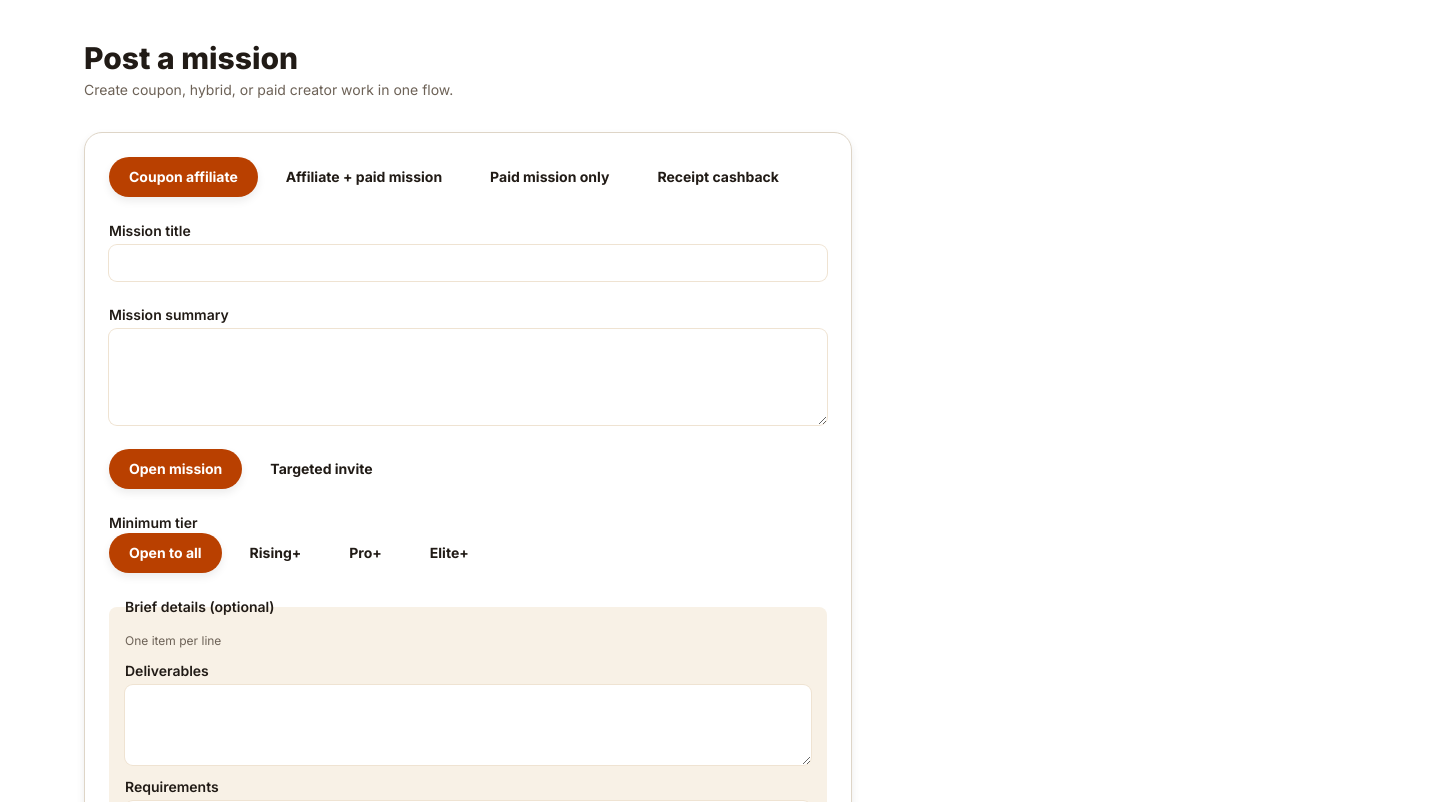
it: MissionPostWizard › shows a success panel after a successful create
Type "Test mission" into the field labelled "Mission title" at (468, 263), box x1=109 y1=245 x2=827 y2=281
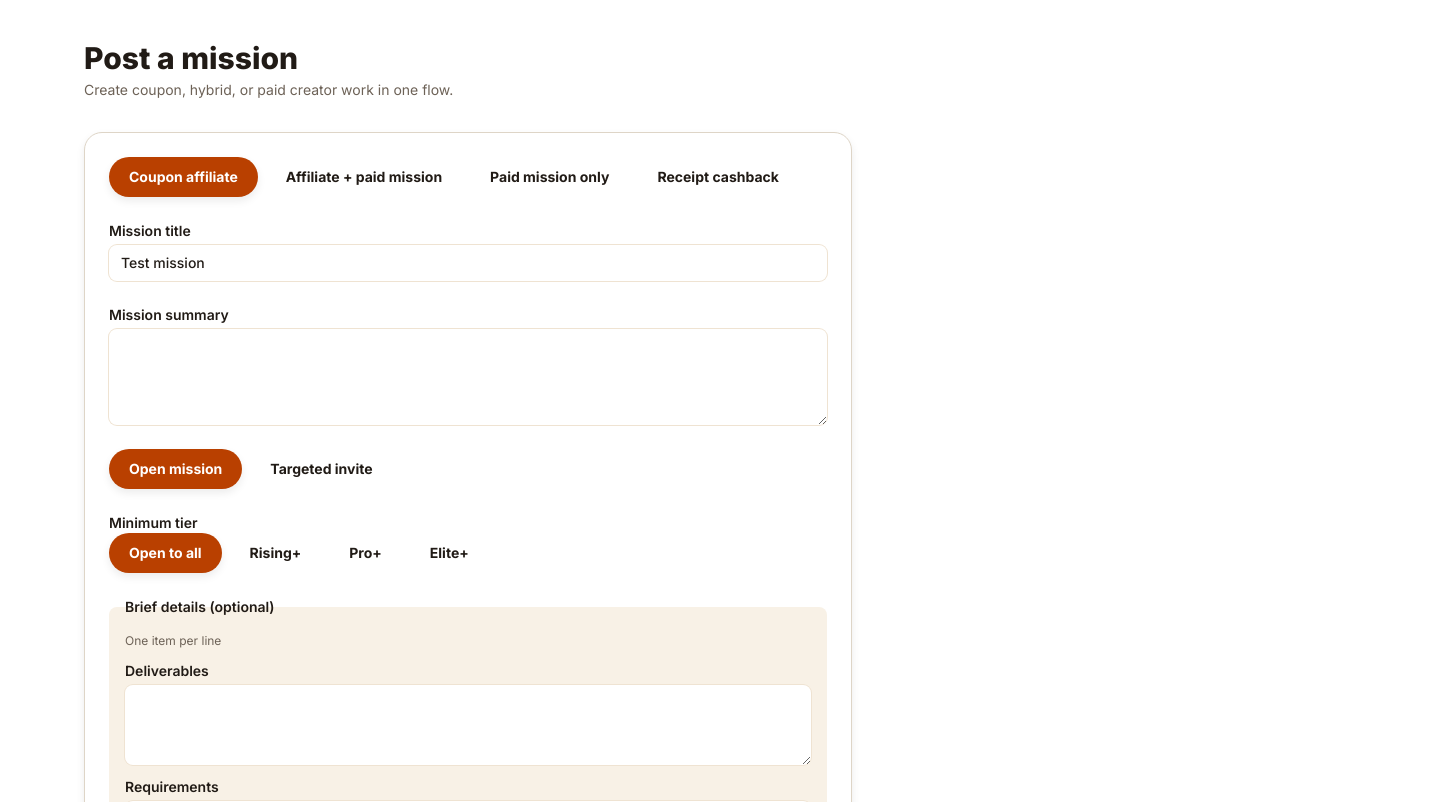
Type "Mission summary" into the text box labelled "Mission summary" at (468, 377), box x1=109 y1=329 x2=827 y2=425
(page scrolled)
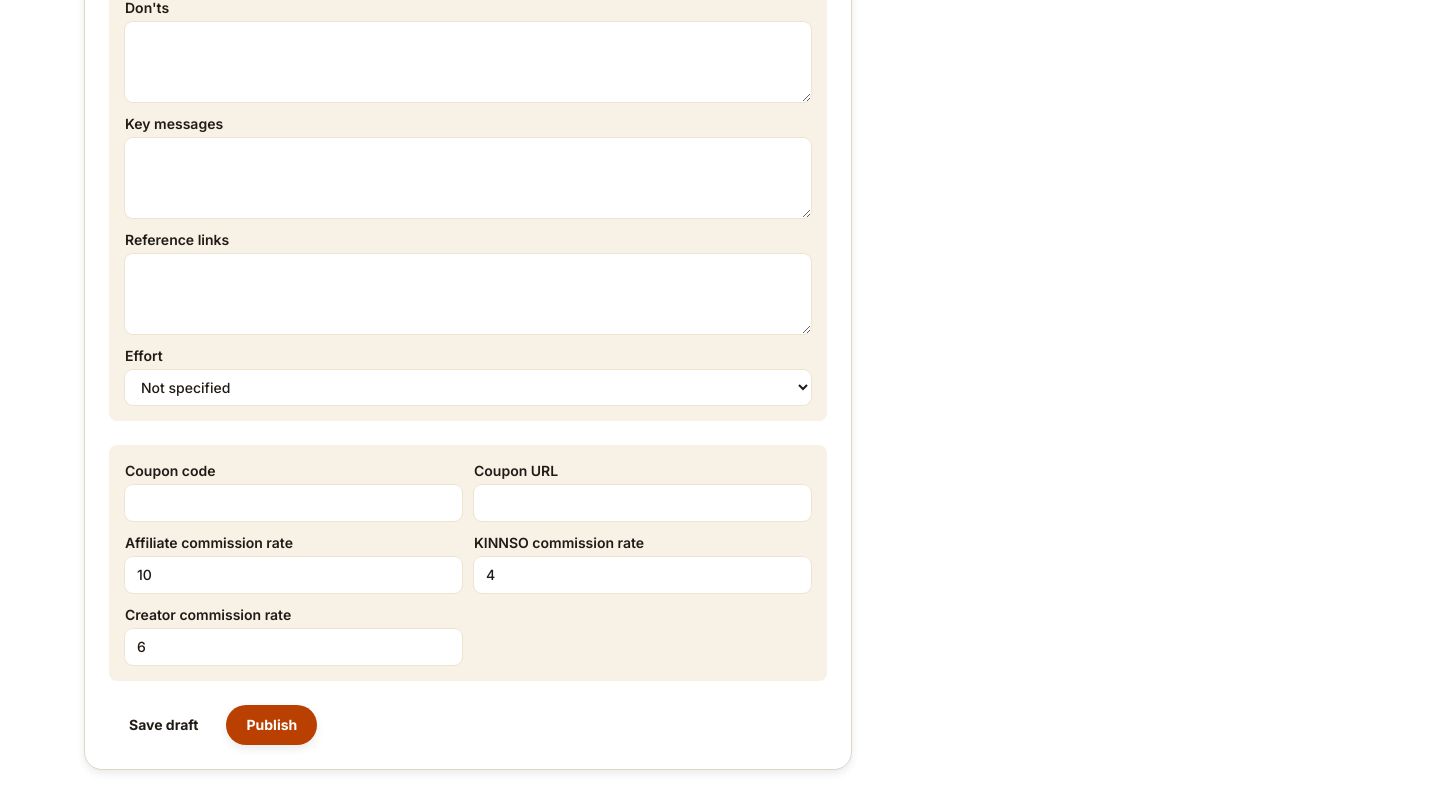
Type "TEST10" into the field labelled "Coupon code" at (294, 503), box x1=125 y1=485 x2=462 y2=521
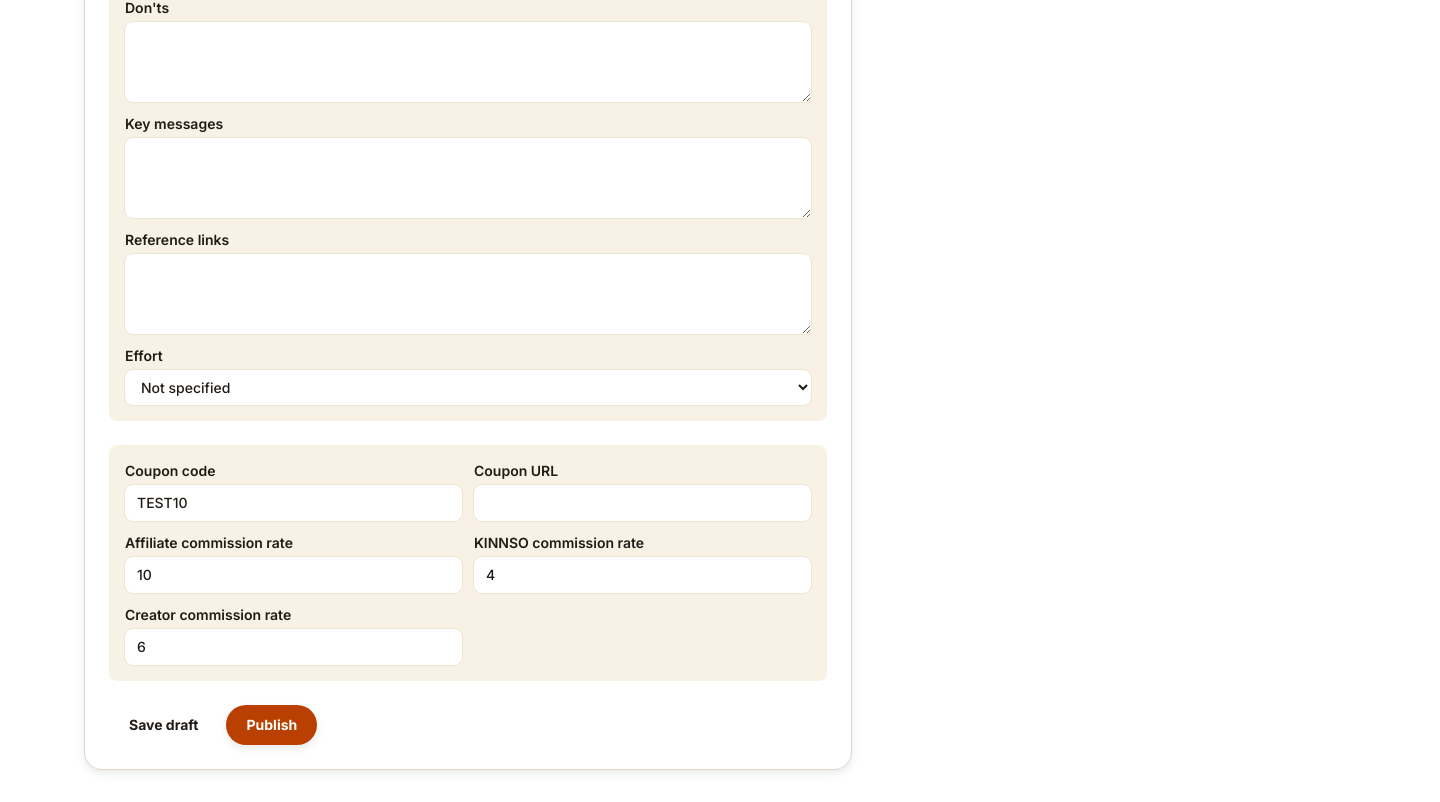
Type "https://example.com/test" into the field labelled "Coupon URL" at (642, 503), box x1=474 y1=485 x2=811 y2=521
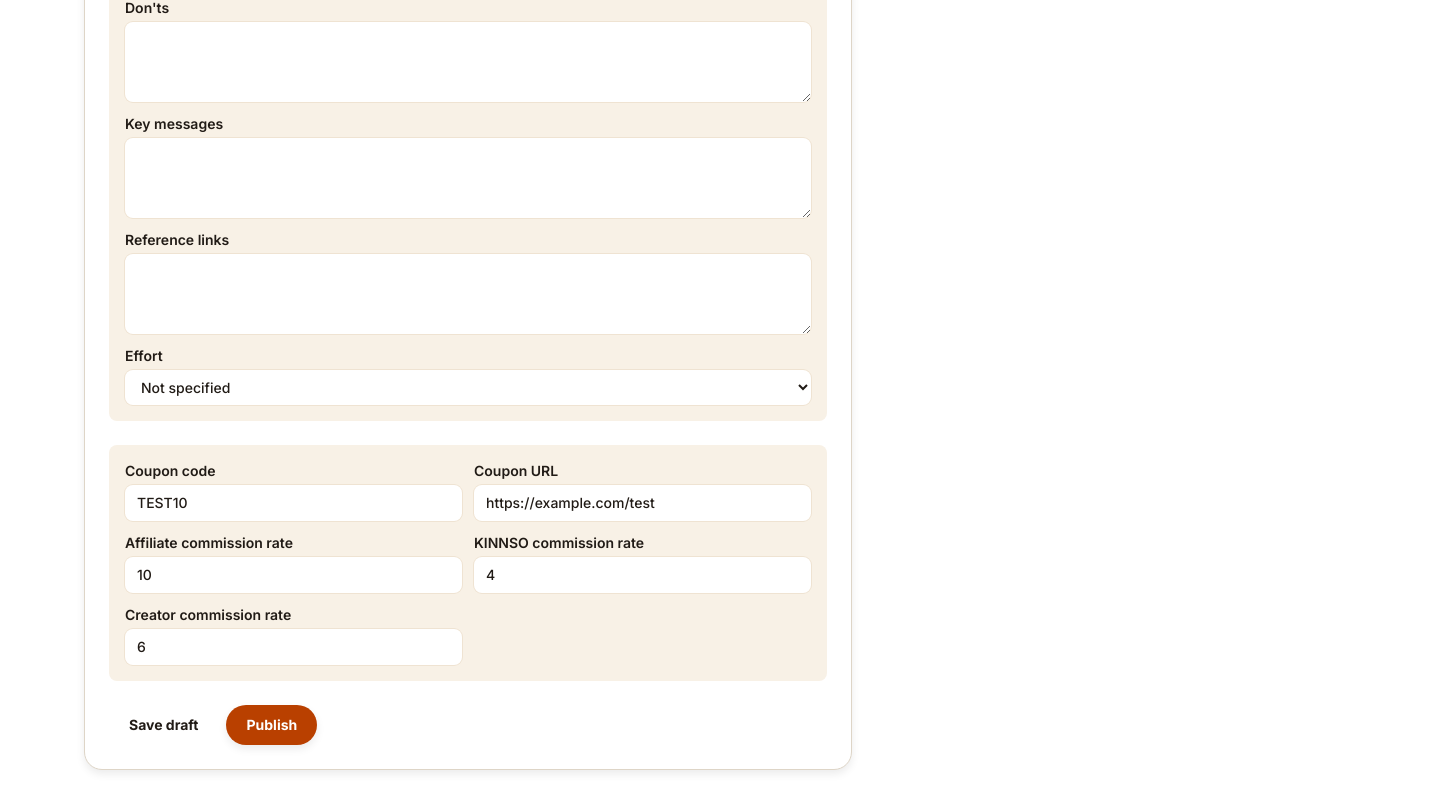
Click the button "Save draft" at (164, 725), box x1=109 y1=705 x2=218 y2=745
(page scrolled)
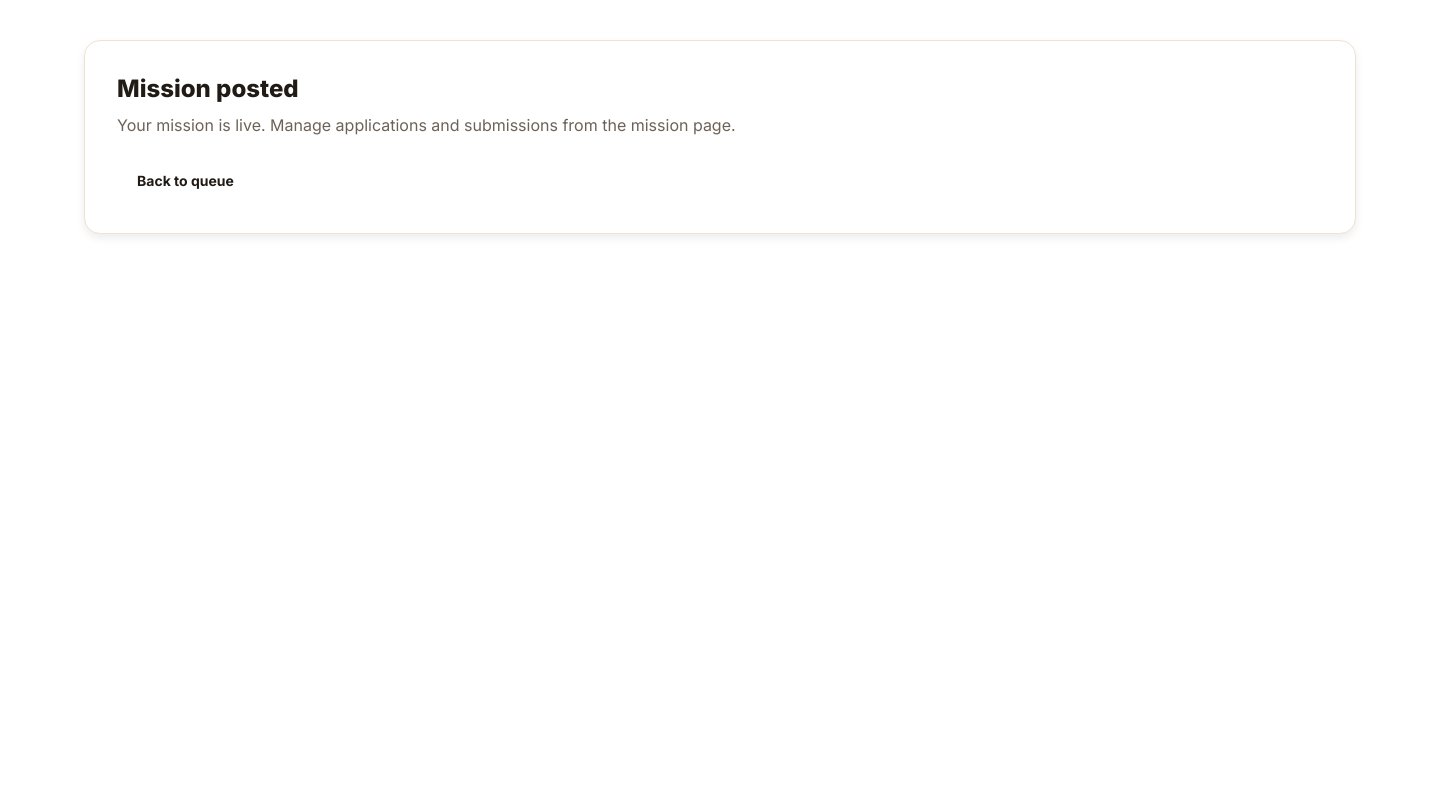
Check: the heading "Mission posted" is shown, box x1=117 y1=74 x2=299 y2=103
Check: the button "Save draft" is gone
